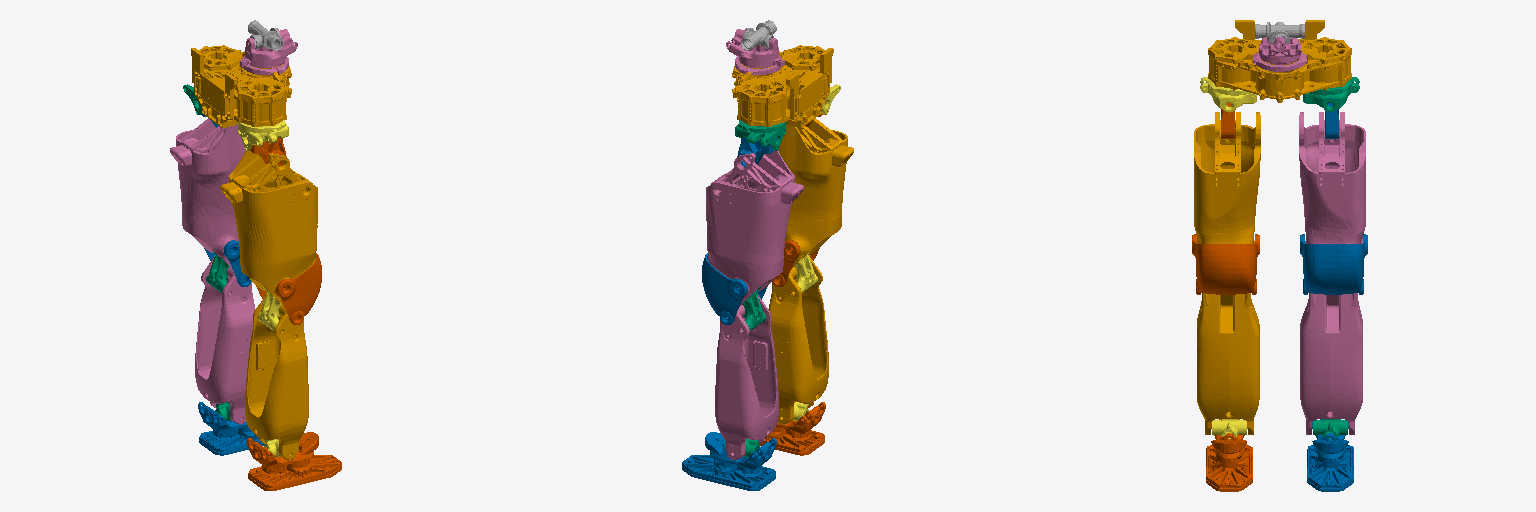
The robot description file, URDF, robot "nadia":
<?xml version = "1.0" ?>
<robot name="nadia" xmlns:xacro="http://www.ros.org/wiki/xacro">

<!-- revolute joints -->
<joint name="LEFT_HIP_Z" type="revolute">
    <origin rpy="0 0 0" xyz="0 0.115 -0.07185" />
    <axis xyz="0 0 -1" />
    <parent link="PELVIS_LINK" />
    <child link="LEFT_HIP_YAW_LINK" />
    <limit effort="1000" lower="-0.7854" upper="0.7854" velocity = "100" />
    <dynamics damping="0.05" friction="0.0"/>
</joint>

<joint name="RIGHT_HIP_Z" type="revolute">
    <origin rpy="0 0 0" xyz="0 -0.115 -0.07185" />
    <axis xyz="0 0 -1" />
    <parent link="PELVIS_LINK" />
    <child link="RIGHT_HIP_YAW_LINK" />
    <limit effort="1000" lower="-0.7854" upper="0.7854" velocity = "100" />
    <dynamics damping="0.05" friction="0.0"/>
</joint>

<joint name="LEFT_HIP_X" type="revolute">
    <origin rpy="0 0 0" xyz="0.035 0.015 -0.04975" />
    <axis xyz="1 0 0" />
    <parent link="LEFT_HIP_YAW_LINK" />
    <child link="LEFT_HIP_ROLL_LINK" />
    <limit effort="1000" lower="-0.5236" upper="1.0472" velocity = "100" />
    <dynamics damping="0.05" friction="0.0"/>
</joint>

<joint name="RIGHT_HIP_X" type="revolute">
    <origin rpy="0 0 0" xyz="0.035 -0.015 -0.04975" />
    <axis xyz="1 0 0" />
    <parent link="RIGHT_HIP_YAW_LINK" />
    <child link="RIGHT_HIP_ROLL_LINK" />
    <limit effort="1000" lower="-1.0472" upper="0.5236" velocity = "100" />
    <dynamics damping="0.05" friction="0.0"/>
</joint>

<joint name="LEFT_HIP_Y" type="revolute">
    <origin rpy="0 0 0" xyz="0 0 -0.079068" />
    <axis xyz="0 1 0" />
    <parent link="LEFT_HIP_ROLL_LINK" />
    <child link="LEFT_THIGH_LINK" />
    <limit effort="1000" lower="-1.57" upper="0.314" velocity = "100" />
    <dynamics damping="0.05" friction="0.0"/>
</joint>

<joint name="RIGHT_HIP_Y" type="revolute">
    <origin rpy="0 0 0" xyz="0 0 -0.079068" />
    <axis xyz="0 1 0" />
    <parent link="RIGHT_HIP_ROLL_LINK" />
    <child link="RIGHT_THIGH_LINK" />
    <limit effort="1000" lower="-1.57" upper="0.314" velocity = "100" />
    <dynamics damping="0.05" friction="0.0"/>
</joint>

<joint name="LEFT_KNEE_SHELL_UPPER_Y" type="revolute">
    <origin rpy="0 0 0" xyz="-0.02113091 0 -0.33468461" />
    <axis xyz="0 1 0" />
    <parent link="LEFT_THIGH_LINK" />
    <child link="LEFT_KNEE_SHELL_LINK" />
    <limit effort="1000" lower="0" upper="2.62" velocity = "100" />
    <dynamics damping="0.05" friction="0.0"/>
</joint>

<joint name="RIGHT_KNEE_SHELL_UPPER_Y" type="revolute">
    <origin rpy="0 0 0" xyz="-0.02113091 0 -0.33468461" />
    <axis xyz="0 1 0" />
    <parent link="RIGHT_THIGH_LINK" />
    <child link="RIGHT_KNEE_SHELL_LINK" />
    <limit effort="1000" lower="0" upper="2.62" velocity = "100" />
    <dynamics damping="0.05" friction="0.0"/>
</joint>

<joint name="LEFT_KNEE_LINKAGE_UPPER_Y" type="revolute">
    <origin rpy="0 0 0" xyz="0 0 -0.38" />
    <axis xyz="0 1 0" />
    <parent link="LEFT_THIGH_LINK" />
    <child link="LEFT_KNEE_LINKAGE_LINK" />
    <limit effort="1000" lower="0" upper="2.62" velocity = "100" />
    <dynamics damping="0.05" friction="0.0"/>
</joint>

<joint name="RIGHT_KNEE_LINKAGE_UPPER_Y" type="revolute">
    <origin rpy="0 0 0" xyz="0 0 -0.38" />
    <axis xyz="0 1 0" />
    <parent link="RIGHT_THIGH_LINK" />
    <child link="RIGHT_KNEE_LINKAGE_LINK" />
    <limit effort="1000" lower="0" upper="2.62" velocity = "100" />
    <dynamics damping="0.05" friction="0.0"/>
</joint>

<joint name="LEFT_KNEE_SHELL_LOWER_Y" type="revolute">
    <origin rpy="0 0 0" xyz="0.04231885 0 -0.10153381" />
    <axis xyz="0 1 0" />
    <parent link="LEFT_KNEE_SHELL_LINK" />
    <child link="LEFT_SHIN_LINK" />
    <limit effort="1000" lower="0" upper="2.62" velocity = "100" />
    <dynamics damping="0.05" friction="0.0"/>
</joint>

<joint name="RIGHT_KNEE_SHELL_LOWER_Y" type="revolute">
    <origin rpy="0 0 0" xyz="0.04231885 0 -0.10153381" />
    <axis xyz="0 1 0" />
    <parent link="RIGHT_KNEE_SHELL_LINK" />
    <child link="RIGHT_SHIN_LINK" />
    <limit effort="1000" lower="0" upper="2.62" velocity = "100" />
    <dynamics damping="0.05" friction="0.0"/>
</joint>

<!--joint name="LEFT_KNEE_LINKAGE_LOWER_Y" type="revolute">
    <origin rpy="0 0 0" xyz="-0.01711428 0 -0.0883578" />
    <axis xyz="0 1 0" />
    <parent link="LEFT_KNEE_LINKAGE_LINK" />
    <child link="LEFT_SHIN_LINK" />
    <limit effort="1000" lower="0" upper="2.62" velocity = "100" />
    <dynamics damping="0.05" friction="0.0"/>
</joint>

<joint name="RIGHT_KNEE_LINKAGE_LOWER_Y" type="revolute">
    <origin rpy="0 0 0" xyz="-0.01711428 0 -0.0883578" />
    <axis xyz="0 1 0" />
    <parent link="RIGHT_KNEE_LINKAGE_LINK" />
    <child link="RIGHT_SHIN_LINK" />
    <limit effort="1000" lower="0" upper="2.62" velocity = "100" />
    <dynamics damping="0.05" friction="0.0"/>
</joint-->

<joint name="LEFT_ANKLE_Y" type="revolute">
    <origin rpy="0 0 0" xyz="-0.00830222 0 -0.40213938" />
    <axis xyz="0 1 0" />
    <parent link="LEFT_SHIN_LINK" />
    <child link="LEFT_ANKLE_LINK" />
    <limit effort="1000" lower="-1.0472" upper="0.698132" velocity = "100" />
    <dynamics damping="0.05" friction="0.0"/>
</joint>

<joint name="RIGHT_ANKLE_Y" type="revolute">
    <origin rpy="0 0 0" xyz="-0.00830222 0 -0.40213938" />
    <axis xyz="0 1 0" />
    <parent link="RIGHT_SHIN_LINK" />
    <child link="RIGHT_ANKLE_LINK" />
    <limit effort="1000" lower="-1.0472" upper="0.698132" velocity = "100" />
    <dynamics damping="0.05" friction="0.0"/>
</joint>

<joint name="LEFT_ANKLE_X" type="revolute">
    <origin rpy="0 0 0" xyz="0 0 -0.01" />
    <axis xyz="1 0 0" />
    <parent link="LEFT_ANKLE_LINK" />
    <child link="LEFT_FOOT_LINK" />
    <limit effort="1000" lower="-0.436332" upper="0.436332" velocity = "100" />
    <dynamics damping="0.05" friction="0.0"/>
</joint>

<joint name="RIGHT_ANKLE_X" type="revolute">
    <origin rpy="0 0 0" xyz="0 0 -0.01" />
    <axis xyz="1 0 0" />
    <parent link="RIGHT_ANKLE_LINK" />
    <child link="RIGHT_FOOT_LINK" />
    <limit effort="1000" lower="-0.436332" upper="0.436332" velocity = "100" />
    <dynamics damping="0.05" friction="0.0"/>
</joint>

<joint name="SPINE_Z" type="revolute">
    <origin rpy="0 0 0" xyz="0.08 0 0.00635" />
    <axis xyz="0 0 1" />
    <parent link="PELVIS_LINK" />
    <child link="SPINE_YAW_LINK" />
    <limit effort="1000" lower="-1.0472" upper="1.0472" velocity = "100" />
    <dynamics damping="0.05" friction="0.0"/>
</joint>

<joint name="SPINE_X" type="revolute">
    <origin rpy="0 0 0" xyz="0 0 0.08205" />
    <axis xyz="1 0 0" />
    <parent link="SPINE_YAW_LINK" />
    <child link="SPINE_ROLL_LINK" />
    <limit effort="1000" lower="-0.523599" upper="0.523599" velocity = "100" />
    <dynamics damping="0.05" friction="0.0"/>
</joint>

<joint name="SPINE_Y" type="revolute">
    <origin rpy="0 0 0" xyz="0 0 0.01" />
    <axis xyz="0 1 0" />
    <parent link="SPINE_ROLL_LINK" />
    <child link="TORSO_LINK" />
    <limit effort="1000" lower="-1.0472" upper="1.0472" velocity = "100" />
    <dynamics damping="0.05" friction="0.0"/>
</joint>


<!-- links -->
<link name="PELVIS_LINK">
  <inertial>
    <mass value="19.0917"/>
    <origin rpy="0 0 0" xyz="0.02073086 2.023E-05 -0.0309812"/>
    <inertia ixx="0.0942" ixy="6.05E-06" ixz="0.000379" iyy="0.0416" iyz="3.37E-07" izz="0.112" />
  </inertial>
  <visual>
    <geometry>
      <mesh filename="package://nadia_V16_description/meshes/pelvis.obj"/>
    </geometry>
    <origin rpy="0.0 0.0 0.0" xyz="0.0 0.0 0.0"/>
  </visual>
</link>

<!-- pelvis_stim_imu -->
  <joint name="PELVIS_STIM_IMU_JOINT" type="fixed">
    <parent link="PELVIS_LINK"/>
    <child link="PELVIS_STIM_IMU_LINK"/>
    <origin xyz="-0.03133646 0.02237500 -0.07000000" rpy="0.0 3.141592 0.0"/>
  </joint>

  <link name="PELVIS_STIM_IMU_LINK">
    <inertial>
      <mass value="0.0" />
      <origin xyz="0 0 0" rpy="0 0 0" />
      <inertia ixx="0.0" ixy="0.0" ixz="0.0" iyy="0.0" iyz="0.0" izz="0.0" />
    </inertial>
  </link>

  <gazebo reference="PELVIS_STIM_IMU_LINK">
    <sensor name="pelvis_stim_imu" type="imu">
      <always_on>1</always_on>
      <update_rate>1000.0</update_rate>
      <imu>
        <noise>
          <type>gaussian</type>
          <rate>
            <mean>0.0</mean>
            <stddev>2e-4</stddev>
            <bias_mean>0.0000075</bias_mean>
            <bias_stddev>0.0000008</bias_stddev>
          </rate>
          <accel>
            <mean>0.0</mean>
            <stddev>1.7e-2</stddev>
            <bias_mean>0.1</bias_mean>
            <bias_stddev>0.001</bias_stddev>
          </accel>
        </noise>
      </imu>
    </sensor>
  </gazebo>
 <!-- end pelvis stim imu -->

<link name="LEFT_HIP_YAW_LINK">
  <inertial>
    <mass value="1.814"/>
    <origin rpy="0 0 0" xyz="-0.00629727 0.00606893 -0.03971844"/>
    <inertia ixx="0.004741914" ixy="0.000527" ixz="-0.000307" iyy="0.00414" iyz="1.36E-05" izz="0.00569" />
  </inertial>
  <visual>
    <geometry>
      <mesh filename="package://nadia_V16_description/meshes/left_hip_yaw.obj"/>
    </geometry>
    <origin rpy="0.0 0.0 0.0" xyz="0.0 0.0 0.0"/>
  </visual>
</link>

<link name="RIGHT_HIP_YAW_LINK">
  <inertial>
    <mass value="1.814"/>
    <origin rpy="0 0 0" xyz="-0.00629727 -0.00606893 -0.03971844"/>
    <inertia ixx="0.004741914" ixy="-0.000527" ixz="-0.000307" iyy="0.00414" iyz="-1.36E-05" izz="0.00569" />
  </inertial>
  <visual>
    <geometry>
      <mesh filename="package://nadia_V16_description/meshes/right_hip_yaw.obj"/>
    </geometry>
    <origin rpy="0.0 0.0 0.0" xyz="0.0 0.0 0.0"/>
  </visual>
</link>

<link name="LEFT_HIP_ROLL_LINK">
  <inertial>
    <mass value="0.762"/>
    <origin rpy="0 0 0" xyz="-0.01327037 0.00316985 -0.05399997"/>
    <inertia ixx="0.001028994" ixy="-9.31E-06" ixz="0.000352" iyy="0.00138" iyz="3.22E-05" izz="0.000663" />
  </inertial>
  <visual>
    <geometry>
      <mesh filename="package://nadia_V16_description/meshes/left_hip_roll.obj"/>
    </geometry>
    <origin rpy="0.0 0.0 0.0" xyz="0.0 0.0 0.0"/>
  </visual>
</link>

<link name="RIGHT_HIP_ROLL_LINK">
  <inertial>
    <mass value="0.762"/>
    <origin rpy="0 0 0" xyz="-0.01327037 -0.00316985 -0.05399997"/>
    <inertia ixx="0.001028994" ixy="9.31E-06" ixz="0.000352" iyy="0.00138" iyz="-3.22E-05" izz="0.000663" />
  </inertial>
  <visual>
    <geometry>
      <mesh filename="package://nadia_V16_description/meshes/right_hip_roll.obj"/>
    </geometry>
    <origin rpy="0.0 0.0 0.0" xyz="0.0 0.0 0.0"/>
  </visual>
</link>

<link name="LEFT_THIGH_LINK">
  <inertial>
    <mass value="10.953"/>
    <origin rpy="0 0 0" xyz="-0.00093749 0.01134511 -0.17863144"/>
    <inertia ixx="0.1622268263" ixy="-0.000749" ixz="0.0156" iyy="0.174" iyz="0.00213" izz="0.0528" />
  </inertial>
  <visual>
    <geometry>
      <mesh filename="package://nadia_V16_description/meshes/left_thigh.obj"/>
    </geometry>
    <origin rpy="0.0 0.0 0.0" xyz="0.0 0.0 0.0"/>
  </visual>
</link>

<!-- left thigh imu -->
  <joint name="LEFT_THIGH_IMU_JOINT" type="fixed">
    <parent link="LEFT_THIGH_LINK"/>
    <child link="LEFT_THIGH_IMU_LINK"/>
    <origin xyz="0.05793744 0.01666131 -0.09511697" rpy="2.025  0.000 -1.571"/>  
  </joint>

  <link name="LEFT_THIGH_IMU_LINK">
    <inertial>
      <mass value="0.0" />
      <origin xyz="0 0 0" rpy="0 0 0" />
      <inertia ixx="0.0" ixy="0.0" ixz="0.0" iyy="0.0" iyz="0.0" izz="0.0" />
    </inertial>
  </link>

  <gazebo reference="LEFT_THIGH_IMU_LINK">
    <sensor name="left_thigh_imu" type="imu">
      <always_on>1</always_on>
      <update_rate>1000.0</update_rate>
      <imu>
        <noise>
          <type>gaussian</type>
          <rate>
            <mean>0.0</mean>
            <stddev>2e-4</stddev>
            <bias_mean>0.0000075</bias_mean>
            <bias_stddev>0.0000008</bias_stddev>
          </rate>
          <accel>
            <mean>0.0</mean>
            <stddev>1.7e-2</stddev>
            <bias_mean>0.1</bias_mean>
            <bias_stddev>0.001</bias_stddev>
          </accel>
        </noise>
      </imu>
    </sensor>
  </gazebo>
<!-- end left thigh imu -->

<link name="RIGHT_THIGH_LINK">
  <inertial>
    <mass value="10.953"/>
    <origin rpy="0 0 0" xyz="-0.00093749 -0.01134511 -0.17863144"/>
    <inertia ixx="0.1622268263" ixy="0.000749" ixz="0.0156" iyy="0.174" iyz="-0.00213" izz="0.0528" />
  </inertial>
  <visual>
    <geometry>
      <mesh filename="package://nadia_V16_description/meshes/right_thigh.obj"/>
    </geometry>
    <origin rpy="0.0 0.0 0.0" xyz="0.0 0.0 0.0"/>
  </visual>
</link>

<!-- right thigh imu -->
  <joint name="RIGHT_THIGH_IMU_JOINT" type="fixed">
    <parent link="RIGHT_THIGH_LINK"/>
    <child link="RIGHT_THIGH_IMU_LINK"/>
    <origin xyz="0.05793670 0.01066129 -0.09511742" rpy="2.025  0.000 -1.571"/>  
  </joint>

  <link name="RIGHT_THIGH_IMU_LINK">
    <inertial>
      <mass value="0.0" />
      <origin xyz="0 0 0" rpy="0 0 0" />
      <inertia ixx="0.0" ixy="0.0" ixz="0.0" iyy="0.0" iyz="0.0" izz="0.0" />
    </inertial>
  </link>

  <gazebo reference="RIGHT_THIGH_IMU_LINK">
    <sensor name="right_thigh_imu" type="imu">
      <always_on>1</always_on>
      <update_rate>1000.0</update_rate>
      <imu>
        <noise>
          <type>gaussian</type>
          <rate>
            <mean>0.0</mean>
            <stddev>2e-4</stddev>
            <bias_mean>0.0000075</bias_mean>
            <bias_stddev>0.0000008</bias_stddev>
          </rate>
          <accel>
            <mean>0.0</mean>
            <stddev>1.7e-2</stddev>
            <bias_mean>0.1</bias_mean>
            <bias_stddev>0.001</bias_stddev>
          </accel>
        </noise>
      </imu>
    </sensor>
  </gazebo>
<!-- end right thigh imu -->

<link name="LEFT_KNEE_LINKAGE_LINK">
  <inertial>
    <mass value="0.936"/>
    <origin rpy="0 0 0" xyz="0.00901763 0.00753613 -0.04368231"/>
    <inertia ixx="0.002617337" ixy="3.06E-07" ixz="0.000313" iyy="0.00159" iyz="1.51E-06" izz="0.00128" />
  </inertial>
  <visual>
    <geometry>
      <mesh filename="package://nadia_V16_description/meshes/left_knee_linkage.obj"/>
    </geometry>
    <origin rpy="0.0 0.0 0.0" xyz="0.0 0.0 0.0"/>
  </visual>
</link>

<link name="RIGHT_KNEE_LINKAGE_LINK">
  <inertial>
    <mass value="0.936"/>
    <origin rpy="0 0 0" xyz="0.00901763 -0.00753613 -0.04368231"/>
    <inertia ixx="0.002617337" ixy="-3.06E-07" ixz="0.000313" iyy="0.00159" iyz="-1.51E-06" izz="0.00128" />
  </inertial>
  <visual>
    <geometry>
      <mesh filename="package://nadia_V16_description/meshes/right_knee_linkage.obj"/>
    </geometry>
    <origin rpy="0.0 0.0 0.0" xyz="0.0 0.0 0.0"/>
  </visual>
</link>

<link name="LEFT_KNEE_SHELL_LINK">
  <inertial>
    <mass value="1.101"/>
    <origin rpy="0 0 0" xyz="0.02489954 0.00826196 -0.05330217"/>
    <inertia ixx="0.00642" ixy="-3.64E-05" ixz="1.43E-05" iyy="0.00456" iyz="-6.54E-05" izz="0.00566" />
  </inertial>
  <visual>
    <geometry>
      <mesh filename="package://nadia_V16_description/meshes/left_knee_shell.obj"/>
    </geometry>
    <origin rpy="0.0 0.0 0.0" xyz="0.0 0.0 0.0"/>
  </visual>
</link>

<link name="RIGHT_KNEE_SHELL_LINK">
  <inertial>
    <mass value="1.101"/>
    <origin rpy="0 0 0" xyz="0.02489954 -0.00826196 -0.05330217"/>
    <inertia ixx="0.00642" ixy="3.64E-05" ixz="1.43E-05" iyy="0.00456" iyz="6.54E-05" izz="0.00566" />
  </inertial>
  <visual>
    <geometry>
      <mesh filename="package://nadia_V16_description/meshes/right_knee_shell.obj"/>
    </geometry>
    <origin rpy="0.0 0.0 0.0" xyz="0.0 0.0 0.0"/>
  </visual>
</link>

<link name="LEFT_SHIN_LINK">
  <inertial>
    <mass value="5.42"/>
    <origin rpy="0 0 0" xyz="-0.01841492 0.00228086 -0.22054239"/>
    <inertia ixx="0.064437783" ixy="-0.000214" ixz="-0.00538" iyy="0.0583" iyz="-0.000962" izz="0.0136" />
  </inertial>
  <visual>
    <geometry>
      <mesh filename="package://nadia_V16_description/meshes/left_shin.obj"/>
    </geometry>
    <origin rpy="0.0 0.0 0.0" xyz="0.0 0.0 0.0"/>
  </visual>
</link>


<!-- left shin imu -->
  <joint name="LEFT_SHIN_IMU_JOINT" type="fixed">
    <parent link="LEFT_SHIN_LINK"/>
    <child link="LEFT_SHIN_IMU_LINK"/>
    <origin xyz="-0.03216129 -0.07159184 -0.1864738" rpy="-1.570796 0.0 0.0"/>  
  </joint>

  <link name="LEFT_SHIN_IMU_LINK">
    <inertial>
      <mass value="0.0" />
      <origin xyz="0 0 0" rpy="0 0 0" />
      <inertia ixx="0.0" ixy="0.0" ixz="0.0" iyy="0.0" iyz="0.0" izz="0.0" />
    </inertial>
  </link>

  <gazebo reference="LEFT_SHIN_IMU_LINK">
    <sensor name="left_shin_imu" type="imu">
      <always_on>1</always_on>
      <update_rate>1000.0</update_rate>
      <imu>
        <noise>
          <type>gaussian</type>
          <rate>
            <mean>0.0</mean>
            <stddev>2e-4</stddev>
            <bias_mean>0.0000075</bias_mean>
            <bias_stddev>0.0000008</bias_stddev>
          </rate>
          <accel>
            <mean>0.0</mean>
            <stddev>1.7e-2</stddev>
            <bias_mean>0.1</bias_mean>
            <bias_stddev>0.001</bias_stddev>
          </accel>
        </noise>
      </imu>
    </sensor>
  </gazebo>
<!-- end left shin imu -->

<link name="RIGHT_SHIN_LINK">
  <inertial>
    <mass value="5.42"/>
    <origin rpy="0 0 0" xyz="-0.01837047 -0.00241134 -0.21991278"/>
    <inertia ixx="0.064443143" ixy="0.000202" ixz="-0.00539" iyy="0.0583" iyz="0.000906" izz="0.0136" />
  </inertial>
  <visual>
    <geometry>
      <mesh filename="package://nadia_V16_description/meshes/right_shin.obj"/>
    </geometry>
    <origin rpy="0.0 0.0 0.0" xyz="0.0 0.0 0.0"/>
  </visual>
</link>

<!-- right shin imu -->
  <joint name="RIGHT_SHIN_IMU_JOINT" type="fixed">
    <parent link="RIGHT_SHIN_LINK"/>
    <child link="RIGHT_SHIN_IMU_LINK"/>
    <origin xyz="-0.002838710 0.07159142 -0.1864738" rpy="-1.570796 0.0 3.141592"/>  
  </joint>

  <link name="RIGHT_SHIN_IMU_LINK">
    <inertial>
      <mass value="0.0" />
      <origin xyz="0 0 0" rpy="0 0 0" />
      <inertia ixx="0.0" ixy="0.0" ixz="0.0" iyy="0.0" iyz="0.0" izz="0.0" />
    </inertial>
  </link>

  <gazebo reference="RIGHT_SHIN_IMU_LINK">
    <sensor name="right_shin_imu" type="imu">
      <always_on>1</always_on>
      <update_rate>1000.0</update_rate>
      <imu>
        <noise>
          <type>gaussian</type>
          <rate>
            <mean>0.0</mean>
            <stddev>2e-4</stddev>
            <bias_mean>0.0000075</bias_mean>
            <bias_stddev>0.0000008</bias_stddev>
          </rate>
          <accel>
            <mean>0.0</mean>
            <stddev>1.7e-2</stddev>
            <bias_mean>0.1</bias_mean>
            <bias_stddev>0.001</bias_stddev>
          </accel>
        </noise>
      </imu>
    </sensor>
  </gazebo>
<!-- end right shin imu -->

<link name="LEFT_ANKLE_LINK">
  <inertial>
    <mass value="0.56"/>
    <origin rpy="0 0 0" xyz="-0.00072338 -6.619E-05 -0.00399965"/>
    <inertia ixx="0.000459" ixy="2.65E-08" ixz="-2.43E-06" iyy="0.000336" iyz="1.48E-07" izz="0.000645" />
  </inertial>
  <visual>
    <geometry>
      <mesh filename="package://nadia_V16_description/meshes/ankle.obj"/>
    </geometry>
    <origin rpy="0.0 0.0 0.0" xyz="0.0 0.0 0.0"/>
  </visual>
</link>

<link name="RIGHT_ANKLE_LINK">
  <inertial>
    <mass value="0.56"/>
    <origin rpy="0 0 0" xyz="-0.00072338 6.619E-05 -0.00399965"/>
    <inertia ixx="0.000459" ixy="-2.65E-08" ixz="-2.43E-06" iyy="0.000336" iyz="-1.48E-07" izz="0.000645" />
  </inertial>
  <visual>
    <geometry>
      <mesh filename="package://nadia_V16_description/meshes/ankle.obj"/>
    </geometry>
    <origin rpy="0.0 0.0 0.0" xyz="0.0 0.0 0.0"/>
  </visual>
</link>

<link name="LEFT_FOOT_LINK">
  <inertial>
    <mass value="1.75"/>
    <origin rpy="0 0 0" xyz="0.03075449 0.00007807 -0.04382467"/>
    <inertia ixx="0.00345011" ixy="-0.0000073" ixz="0.0014225" iyy="0.00955764" iyz="-2.269e-7" izz="0.00881313" />
  </inertial>
  <visual>
    <geometry>
      <mesh filename="package://nadia_V16_description/meshes/foot.obj"/>
    </geometry>
    <origin rpy="0.0 0.0 0.0" xyz="0.0 0.0 0.0"/>
  </visual>
</link>

<link name="RIGHT_FOOT_LINK">
  <inertial>
    <mass value="1.75"/>
    <origin rpy="0 0 0" xyz="0.032048 4e-06 -0.028422"/>
    <inertia ixx="0.00345011" ixy="-0.0000073" ixz="0.0014225" iyy="0.00955764" iyz="-2.269e-7" izz="0.00881313" />
  </inertial>
  <visual>
    <geometry>
      <mesh filename="package://nadia_V16_description/meshes/foot.obj"/>
    </geometry>
    <origin rpy="0.0 0.0 0.0" xyz="0.0 0.0 0.0"/>
  </visual>
</link>

<link name="SPINE_YAW_LINK">
  <inertial>
    <mass value="0.91"/>
    <origin rpy="0 0 0" xyz="-0.00853118 -2.697E-05 0.03791445"/>
    <inertia ixx="0.00374289408" ixy="1.25497934E-07" ixz="0.000271325072" iyy="0.00403002777" iyz="-1.38015692E-07" izz="0.0062129847" />
  </inertial>
  <visual>
    <geometry>
      <mesh filename="package://nadia_V16_description/meshes/spine_yaw.obj"/>
    </geometry>
    <origin rpy="0.0 0.0 0.0" xyz="0.0 0.0 0.0"/>
  </visual>
</link>

<link name="SPINE_ROLL_LINK">
  <inertial>
    <mass value="0.44"/>
    <origin rpy="0 0 0" xyz="-0.01904983 7E-08 0.01979244"/>
    <inertia ixx="0.000373262301" ixy="-1.51441878E-10" ixz="-6.69067307E-05" iyy="0.000649978475" iyz="-1.27858402E-10" izz="0.000419408851" />
  </inertial>
  <visual>
    <geometry>
      <mesh filename="package://nadia_V16_description/meshes/spine_roll.obj"/>
    </geometry>
    <origin rpy="0.0 0.0 0.0" xyz="0.0 0.0 0.0"/>
  </visual>
</link>

<link name="TORSO_LINK">
  <inertial>
    <mass value="13.5"/>
    <origin rpy="0 0 0" xyz="-0.03613868 -2.81E-06 0.25908586"/>
    <inertia ixx="0.534504681" ixy="8.41519717E-05" ixz="-0.00672956305" iyy="0.505409852" iyz="0.000207996773" izz="0.379402013" />
  </inertial>
  <visual>
    <geometry>
      <mesh filename="package://nadia_V16_description/meshes/torso_cycloidmounts.obj"/>
    </geometry>
    <origin rpy="0.0 0.0 0.0" xyz="0.0 0.0 0.0"/>
  </visual>
</link>

<!-- torso imu -->
  <joint name="TORSO_IMU_JOINT" type="fixed">
    <parent link="TORSO_LINK"/>
    <child link="TORSO_IMU_LINK"/>
    <origin xyz="0.04529 -0.02427 0.33757" rpy="3.141592 0 0"/>  
  </joint>

  <link name="TORSO_IMU_LINK">
    <inertial>
      <mass value="0.0" />
      <origin xyz="0 0 0" rpy="0 0 0" />
      <inertia ixx="0.0" ixy="0.0" ixz="0.0" iyy="0.0" iyz="0.0" izz="0.0" />
    </inertial>
  </link>

  <gazebo reference="TORSO_IMU_LINK">
    <sensor name="TORSO_imu" type="imu">
      <always_on>1</always_on>
      <update_rate>1000.0</update_rate>
      <imu>
        <noise>
          <type>gaussian</type>
          <rate>
            <mean>0.0</mean>
            <stddev>2e-4</stddev>
            <bias_mean>0.0000075</bias_mean>
            <bias_stddev>0.0000008</bias_stddev>
          </rate>
          <accel>
            <mean>0.0</mean>
            <stddev>1.7e-2</stddev>
            <bias_mean>0.1</bias_mean>
            <bias_stddev>0.001</bias_stddev>
          </accel>
        </noise>
      </imu>
    </sensor>
  </gazebo>
<!-- end torso imu -->
</robot>

--- Facts derived from the render (not from the file) ---
Views: 3 orthographic renders of the robot side by side, from view 1: azimuth 30°, elevation 25°; view 2: azimuth 150°, elevation 25°; view 3: azimuth 270°, elevation 25°.
Robot: nadia — 26 links, 25 joints (19 revolute, 6 fixed); root link PELVIS_LINK; default pose: every joint at zero.
Visible links, largest first — view 1: RIGHT_THIGH_LINK, RIGHT_SHIN_LINK, LEFT_THIGH_LINK, LEFT_SHIN_LINK, PELVIS_LINK, RIGHT_FOOT_LINK, RIGHT_KNEE_SHELL_LINK, LEFT_FOOT_LINK, SPINE_YAW_LINK, RIGHT_HIP_YAW_LINK, SPINE_ROLL_LINK, LEFT_KNEE_SHELL_LINK (+2 smaller); view 2: LEFT_THIGH_LINK, LEFT_SHIN_LINK, RIGHT_THIGH_LINK, RIGHT_SHIN_LINK, PELVIS_LINK, LEFT_FOOT_LINK, LEFT_KNEE_SHELL_LINK, RIGHT_FOOT_LINK, SPINE_YAW_LINK, LEFT_HIP_YAW_LINK, SPINE_ROLL_LINK, RIGHT_KNEE_SHELL_LINK (+2 smaller); view 3: LEFT_SHIN_LINK, RIGHT_SHIN_LINK, LEFT_THIGH_LINK, RIGHT_THIGH_LINK, PELVIS_LINK, RIGHT_KNEE_SHELL_LINK, LEFT_KNEE_SHELL_LINK, LEFT_FOOT_LINK, RIGHT_FOOT_LINK, SPINE_YAW_LINK, RIGHT_HIP_YAW_LINK, LEFT_HIP_YAW_LINK (+3 smaller).
Boxes of the visible links, x1,y1,x2,y2 form: RIGHT_THIGH_LINK: (220, 151, 317, 305); RIGHT_SHIN_LINK: (245, 294, 308, 459); LEFT_THIGH_LINK: (170, 118, 245, 267); LEFT_SHIN_LINK: (195, 256, 255, 424); PELVIS_LINK: (191, 45, 291, 127); RIGHT_FOOT_LINK: (247, 432, 341, 490); RIGHT_KNEE_SHELL_LINK: (256, 253, 321, 324); LEFT_FOOT_LINK: (198, 402, 264, 455); SPINE_YAW_LINK: (240, 28, 297, 74); RIGHT_HIP_YAW_LINK: (237, 120, 288, 150); SPINE_ROLL_LINK: (248, 20, 282, 50); LEFT_KNEE_SHELL_LINK: (204, 240, 251, 286); LEFT_THIGH_LINK: (706, 151, 803, 305); LEFT_SHIN_LINK: (715, 295, 778, 459); RIGHT_THIGH_LINK: (778, 118, 853, 267); RIGHT_SHIN_LINK: (768, 256, 828, 424); PELVIS_LINK: (732, 45, 833, 127); LEFT_FOOT_LINK: (682, 432, 776, 490); LEFT_KNEE_SHELL_LINK: (702, 253, 767, 324); RIGHT_FOOT_LINK: (759, 402, 825, 455); SPINE_YAW_LINK: (726, 28, 784, 74); LEFT_HIP_YAW_LINK: (735, 120, 786, 150); SPINE_ROLL_LINK: (741, 20, 776, 50); RIGHT_KNEE_SHELL_LINK: (772, 240, 819, 286); LEFT_SHIN_LINK: (1300, 293, 1362, 434); RIGHT_SHIN_LINK: (1197, 293, 1259, 434); LEFT_THIGH_LINK: (1299, 112, 1365, 243); RIGHT_THIGH_LINK: (1194, 112, 1260, 243); PELVIS_LINK: (1208, 20, 1351, 102); RIGHT_KNEE_SHELL_LINK: (1192, 234, 1259, 294); LEFT_KNEE_SHELL_LINK: (1300, 234, 1367, 294); LEFT_FOOT_LINK: (1307, 419, 1353, 491); RIGHT_FOOT_LINK: (1206, 419, 1252, 491); SPINE_YAW_LINK: (1253, 37, 1306, 71); RIGHT_HIP_YAW_LINK: (1200, 77, 1256, 112); LEFT_HIP_YAW_LINK: (1303, 77, 1359, 112).
Size in the robot's own frame: 0.3499 by 0.454 by 1.26 metres.
Meshes: 18 distinct files referenced, 19 mesh visuals loaded (17 OBJ); not drawn: 1 (reference not matched to a file when rendering).
